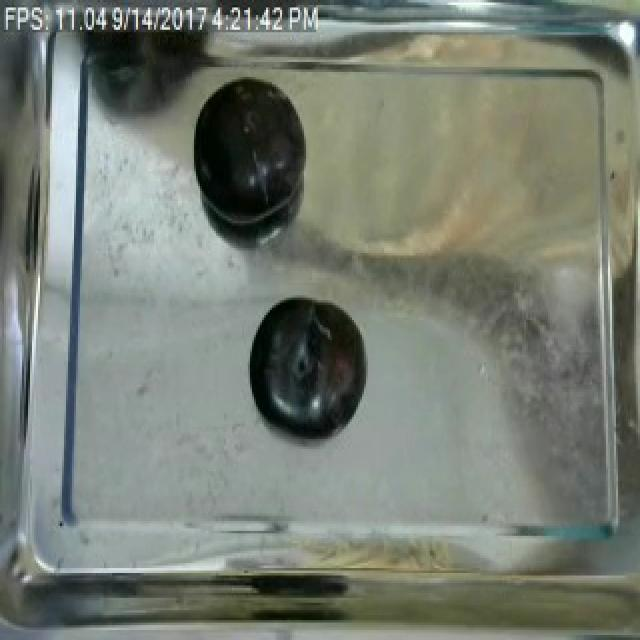Fruit: (184, 72, 314, 236), (244, 290, 370, 444)
